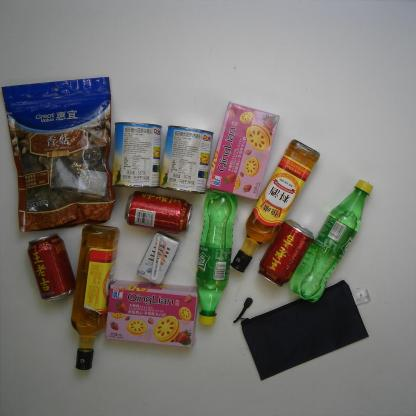Canned Food: (158, 124, 214, 196), (111, 121, 163, 190)
Dessert: (203, 100, 281, 202), (104, 278, 199, 349)
Dried Food: (0, 75, 116, 233)
Drink: (289, 178, 374, 304), (194, 191, 238, 327), (256, 217, 317, 288), (26, 233, 77, 305), (123, 190, 195, 236)
Milk: (136, 230, 181, 286)
Seasoner: (229, 137, 321, 273), (70, 223, 120, 372)
Stationery: (232, 279, 373, 382)
